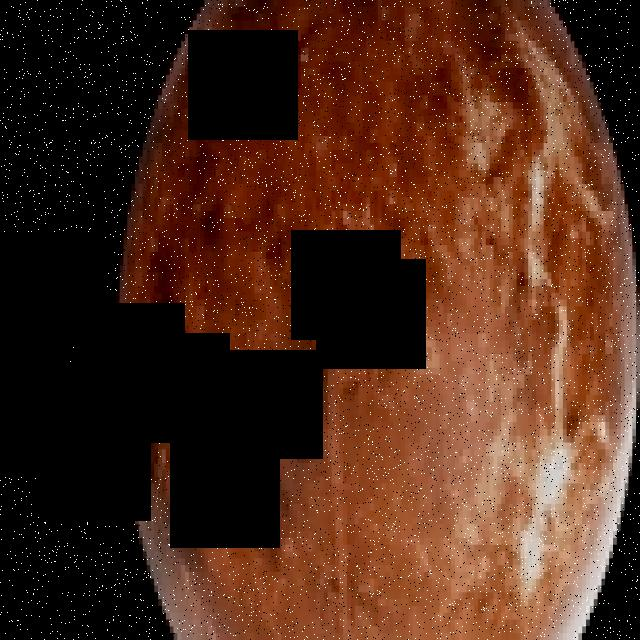Venus: (116, 0, 640, 640)
